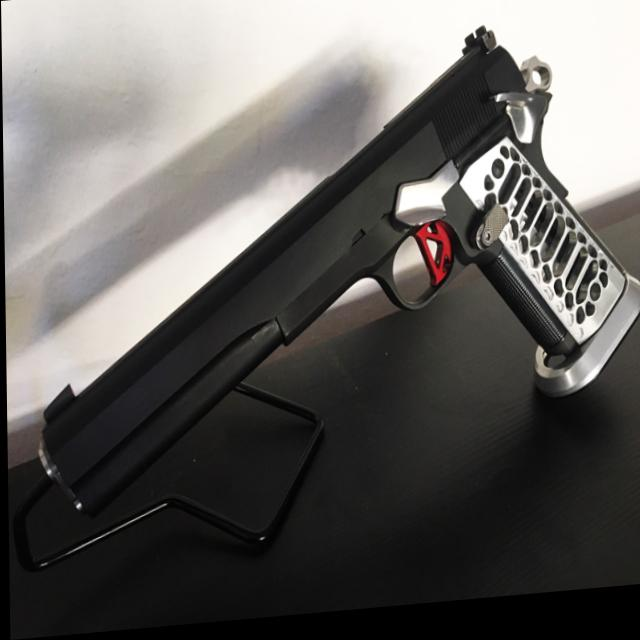handgun: (33, 22, 640, 522)
